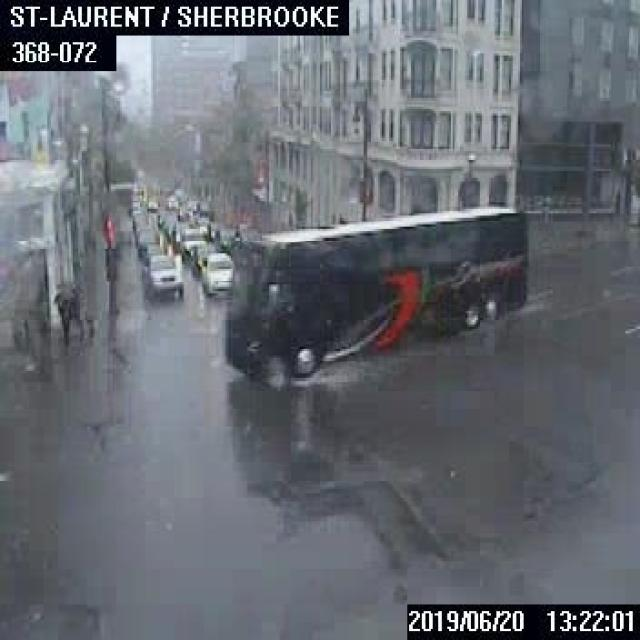bus: (224, 204, 525, 378)
pedestrian: (52, 286, 73, 342)
vehicle: (141, 254, 182, 298), (200, 250, 233, 293), (178, 227, 206, 259), (188, 245, 216, 274), (136, 225, 158, 255), (172, 222, 194, 251), (142, 242, 162, 263), (206, 220, 224, 238)
